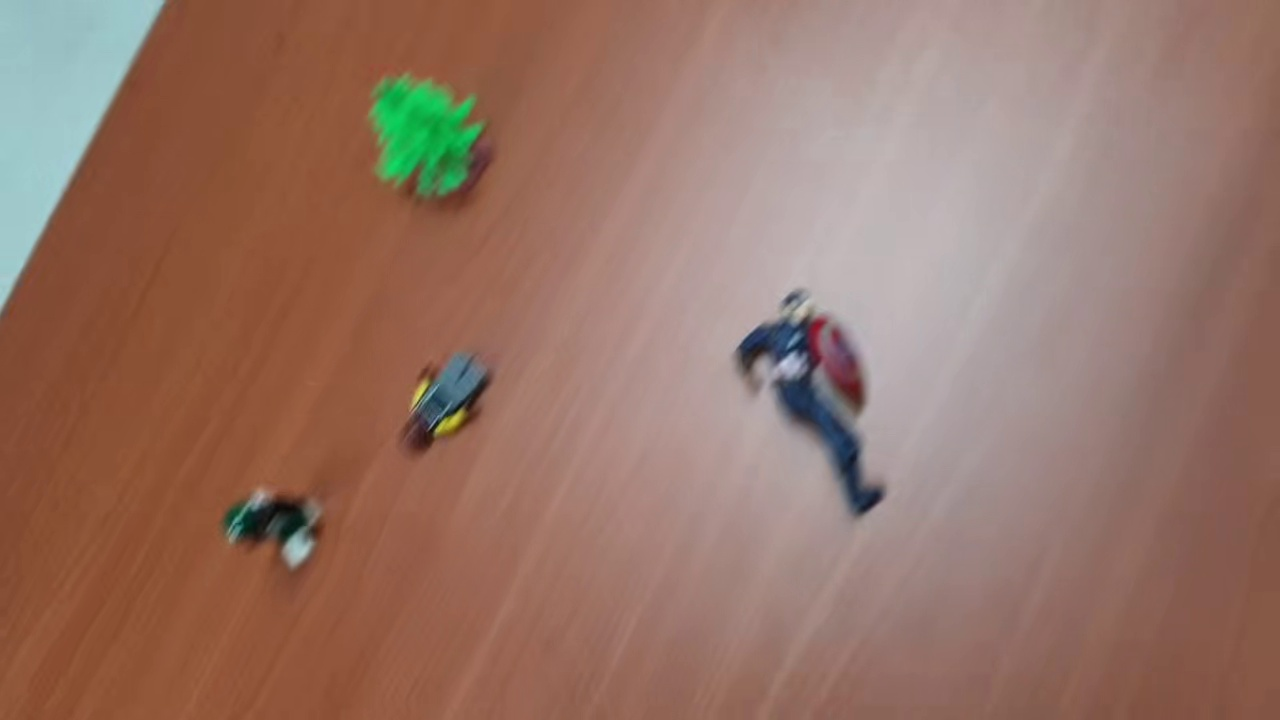people: (734, 283, 888, 522), (219, 487, 333, 574), (400, 351, 495, 450)
tree: (366, 69, 494, 203)
